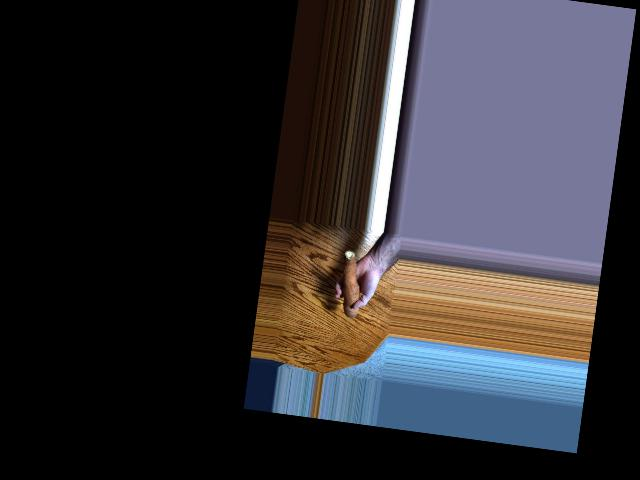sweet_potato: (338, 251, 366, 317)
